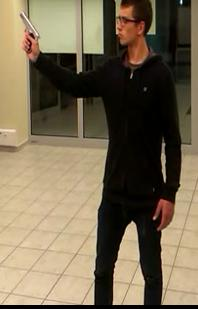pistol: (17, 11, 42, 57)
